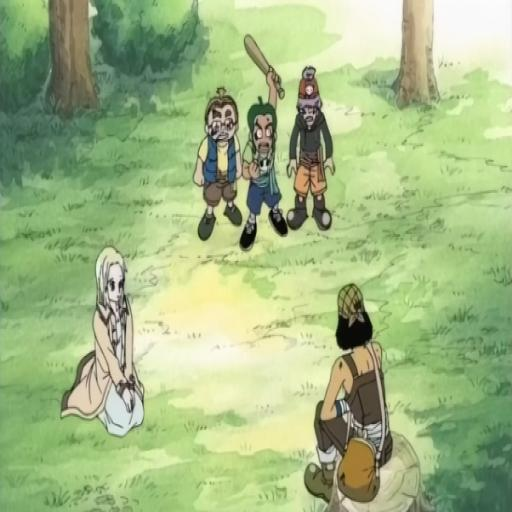Usopp: (302, 286, 394, 508)
